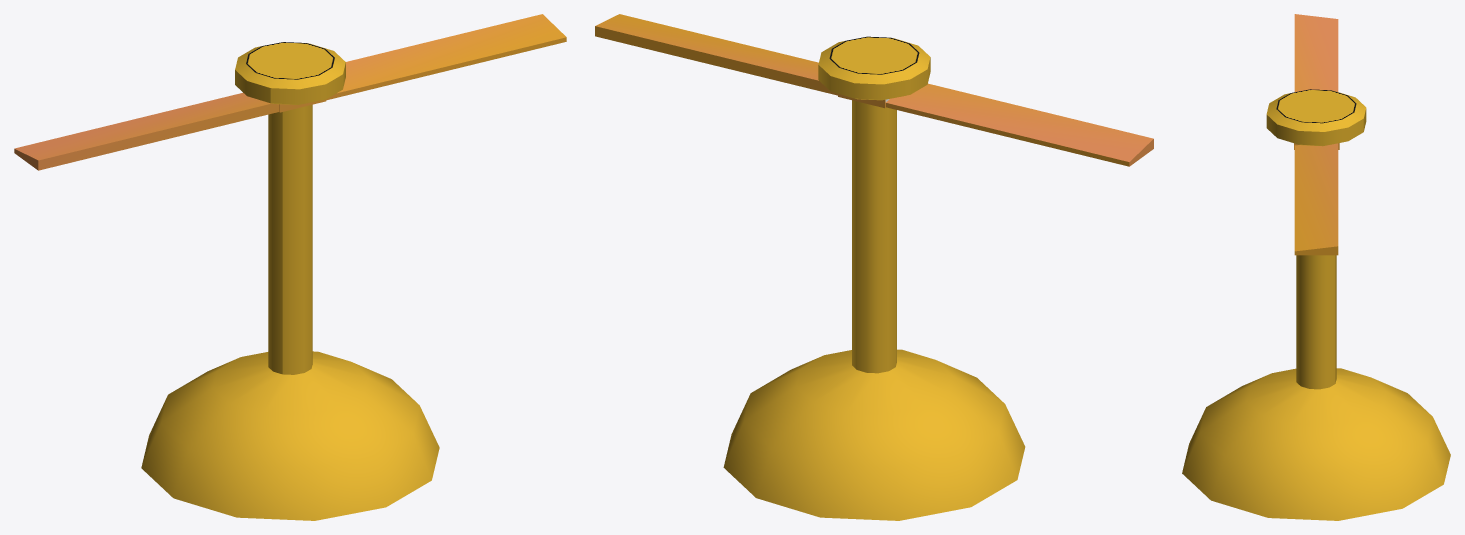
Rendered from helicapter.FBX.
3 renders of one model, left to right at view 1: azimuth 30°, elevation 25°; view 2: azimuth 150°, elevation 25°; view 3: azimuth 270°, elevation 25°, orthographic. The views are drawn at different scales.
Parts seen in each view (by area): view 1: HelicapterMain, HelicapterLeaf; view 2: HelicapterMain, HelicapterLeaf; view 3: HelicapterMain, HelicapterLeaf.
Boxes of the visible parts, x1=… form: HelicapterMain: x1=141, y1=42, x2=439, y2=520; HelicapterLeaf: x1=14, y1=14, x2=566, y2=170; HelicapterMain: x1=723, y1=36, x2=1025, y2=520; HelicapterLeaf: x1=595, y1=14, x2=1153, y2=166; HelicapterMain: x1=1182, y1=89, x2=1450, y2=520; HelicapterLeaf: x1=1294, y1=14, x2=1339, y2=255.
Bounding box in the file's own units: 74.4 × 53.43 × 36.39.
